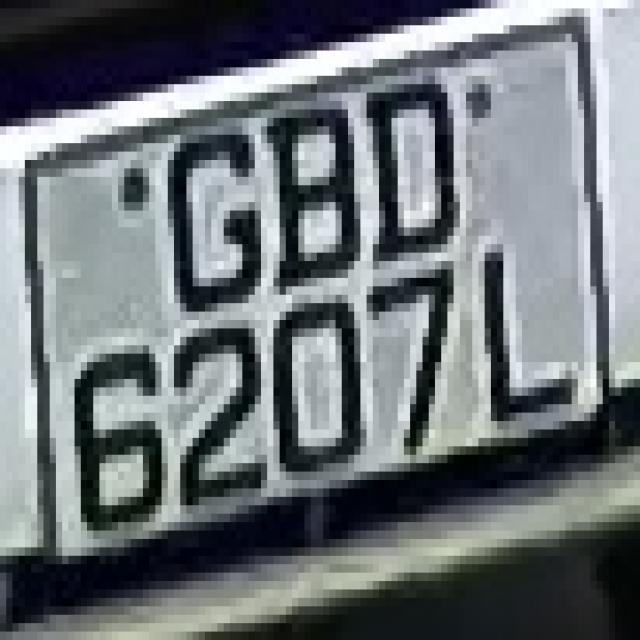0: (255, 286, 373, 497)
2: (149, 304, 280, 548)
6: (62, 328, 162, 564)
7: (336, 252, 448, 488)
B: (261, 84, 373, 312)
D: (360, 51, 466, 294)
G: (149, 92, 267, 328)
L: (460, 228, 590, 430)
